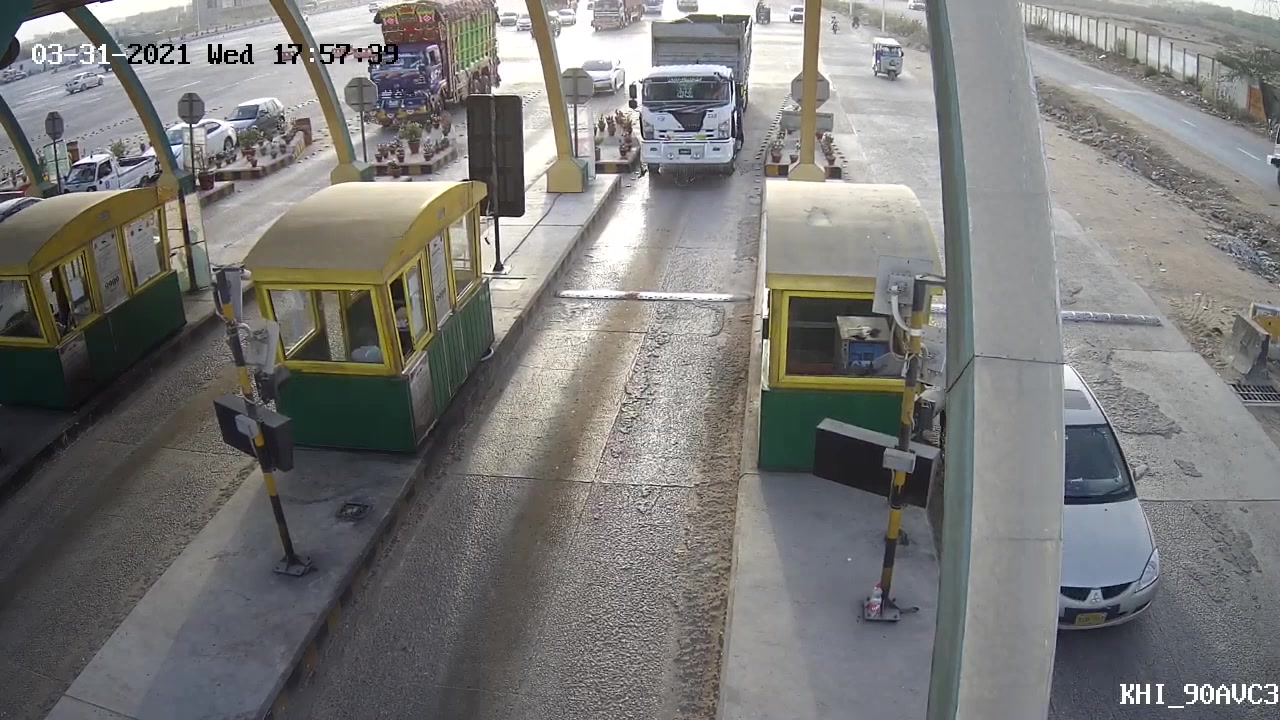F6: (621, 6, 761, 185)
